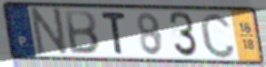3: (168, 11, 200, 59)
8: (135, 11, 164, 57)
B: (63, 9, 101, 56)
C: (198, 11, 237, 60)
N: (30, 6, 69, 58)
T: (99, 10, 128, 57)
